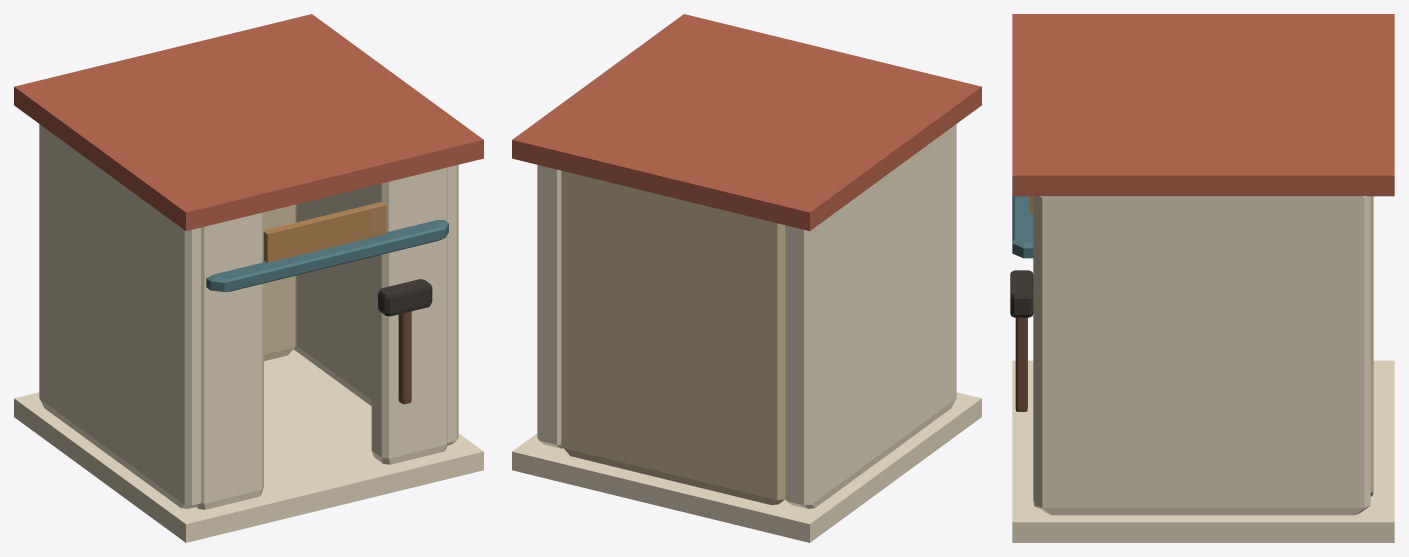
File: workshop.glb
3 renders of one model, left to right at view 1: azimuth 30°, elevation 25°; view 2: azimuth 150°, elevation 25°; view 3: azimuth 270°, elevation 25°, orthographic. The views are drawn at different scales.
Parts seen in each view (by area): view 1: PlasterWall, Floor, DoorSide2, Cap2, DoorSide, Cap4, Cap, PlasterWall2, Cap3, WorkshopAwning, DoorLintel, BackWall (+2 smaller); view 2: BackWall, PlasterWall, Cap, Cap3, Floor, Cap2, Cap4, PlasterWall2; view 3: PlasterWall2, Cap3, Cap4, Floor, Cap, Cap2, WorkshopAwning, HammerHandle, BackWall, HammerHead, DoorSide2.
Part boxes in pixels (x1,y1,x2,y2): PlasterWall: (39, 124, 200, 508); Floor: (14, 349, 483, 542); DoorSide2: (371, 167, 447, 464); Cap2: (100, 113, 334, 230); DoorSide: (196, 212, 263, 509); Cap4: (249, 77, 483, 194); Cap: (14, 50, 248, 167); PlasterWall2: (293, 165, 458, 445); Cap3: (163, 14, 397, 112); WorkshopAwning: (206, 220, 448, 291); DoorLintel: (263, 202, 386, 262); BackWall: (264, 204, 296, 361); BackWall: (561, 170, 785, 505); PlasterWall: (785, 124, 956, 508); Cap: (661, 113, 895, 230); Cap3: (512, 77, 746, 194); Floor: (512, 392, 981, 542); Cap2: (747, 50, 981, 167); Cap4: (598, 14, 832, 112); PlasterWall2: (537, 165, 563, 448); PlasterWall2: (1036, 196, 1370, 515); Cap3: (1203, 94, 1394, 196); Cap4: (1012, 94, 1203, 196); Floor: (1012, 360, 1394, 542); Cap: (1203, 14, 1394, 94); Cap2: (1012, 14, 1203, 94); WorkshopAwning: (1012, 196, 1033, 258); HammerHandle: (1015, 317, 1027, 411); BackWall: (1370, 196, 1373, 496); HammerHead: (1010, 270, 1033, 317); DoorSide2: (1033, 196, 1039, 508).
Size of the model in its own units: 2 by 2.12 by 2.01.
